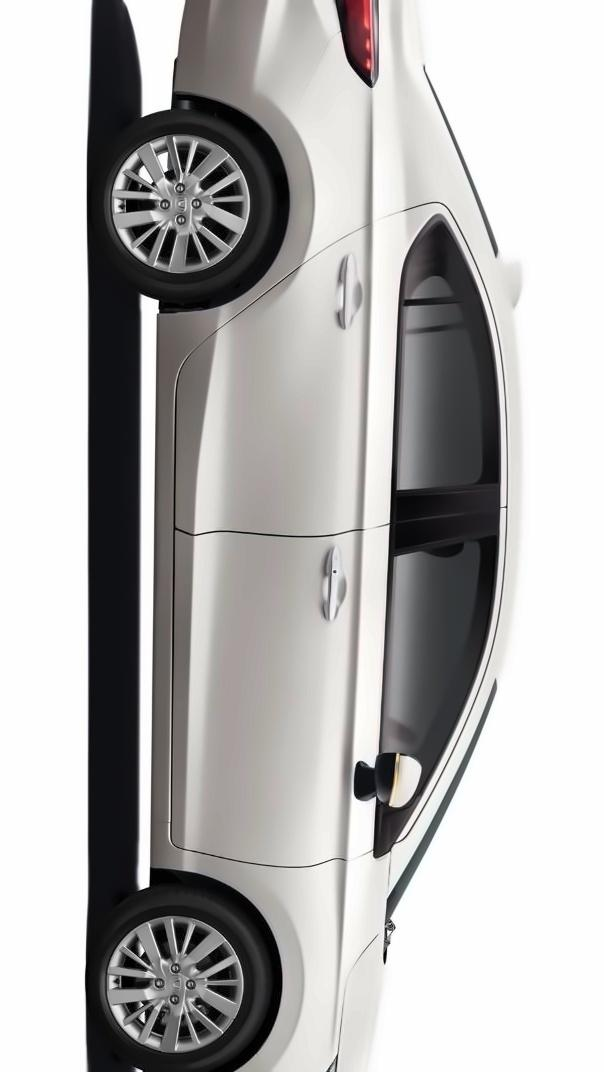Car boot: (382, 0, 436, 98)
Car hood: (333, 919, 405, 1072)
Driver-s door - -F-R-: (165, 494, 512, 878)
Fender - -F-R-: (164, 812, 389, 1072)
Fender - -R-R-: (169, 55, 433, 333)
Front bumper: (187, 874, 353, 1072)
Passenger-s door - -R-R-: (167, 187, 513, 521)
Rear bumper: (162, 0, 350, 99)
Rear light - -R-: (324, 0, 396, 95)
Side bumper - -R-: (139, 297, 227, 909), (372, 745, 423, 825)
